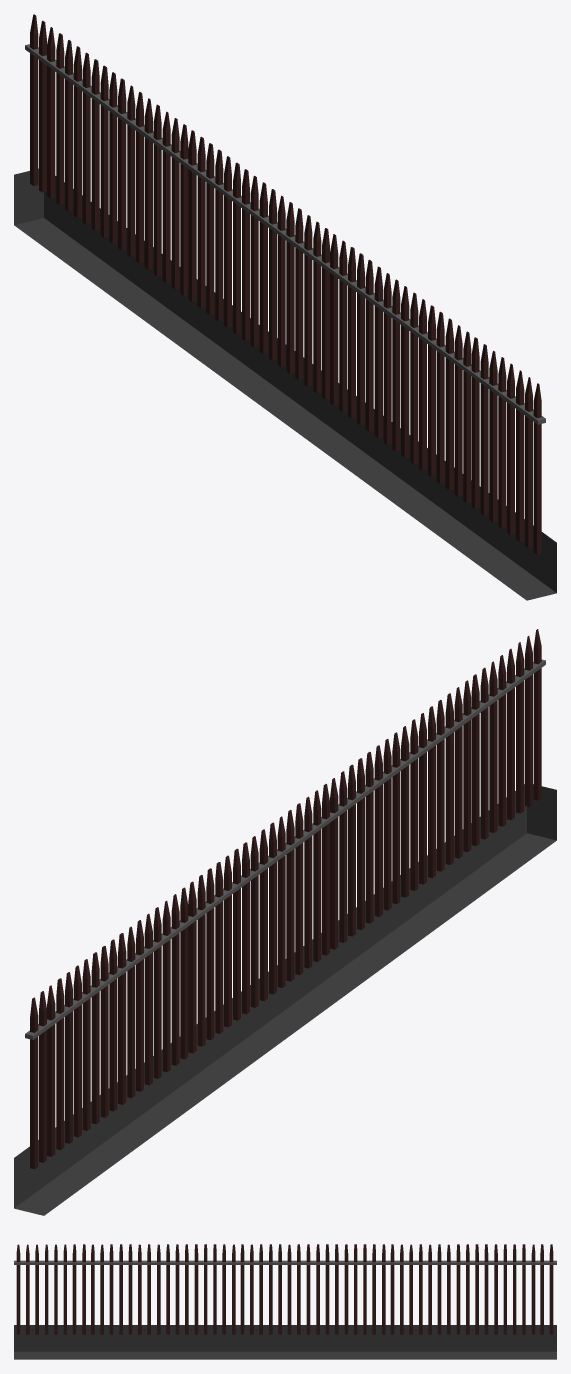
Rendered from barrière.fbx.
The picture shows the model from 3 angles, top to bottom: view 1: azimuth 30°, elevation 25°; view 2: azimuth 150°, elevation 25°; view 3: azimuth 270°, elevation 25°; orthographic projection. The views are drawn at different scales.
Visible parts, largest first — view 1: Cube.002, Cube.001; view 2: Cube.002, Cube.001; view 3: Cube.002, Cube.001.
Boxes of the visible parts, <box> form: Cube.002: <box>30,14,541,554</box>; Cube.001: <box>14,44,556,600</box>; Cube.002: <box>30,629,541,1169</box>; Cube.001: <box>14,659,556,1215</box>; Cube.002: <box>16,1244,553,1334</box>; Cube.001: <box>14,1260,556,1359</box>.
Bounding box in the file's own units: 39.22 × 261 × 1157.
